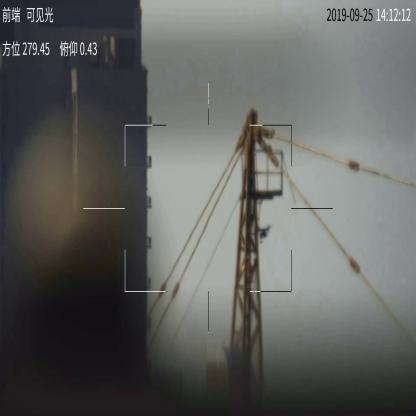uav: (256, 221, 272, 246)
